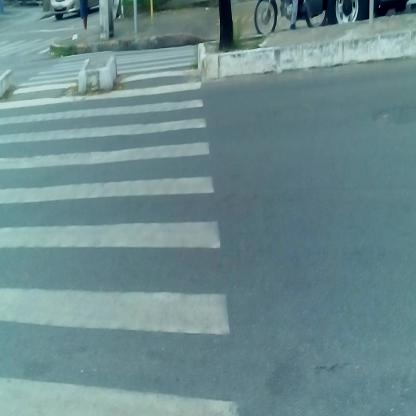crosswalk: (4, 39, 201, 416)
sidewalk: (49, 14, 211, 46)
